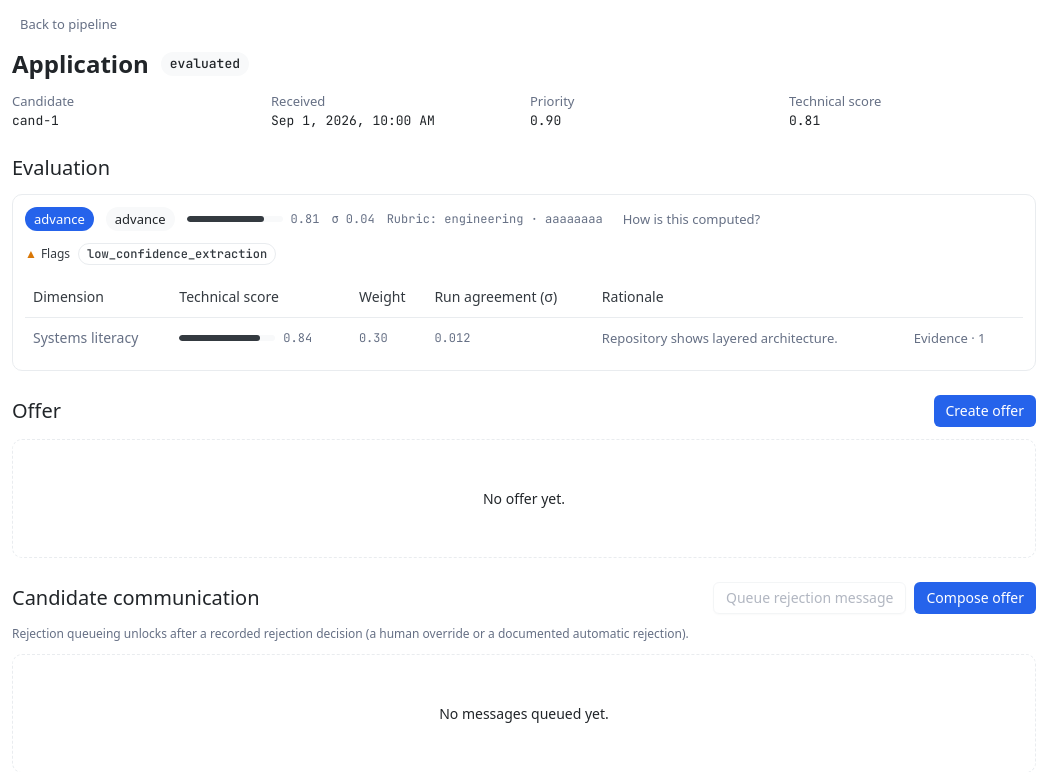
Test: ApplicationDetailPage › opens the score formula and the per-dimension evidence
Click the button "How is this computed?" at x=691, y=219, box [615,207,768,231]
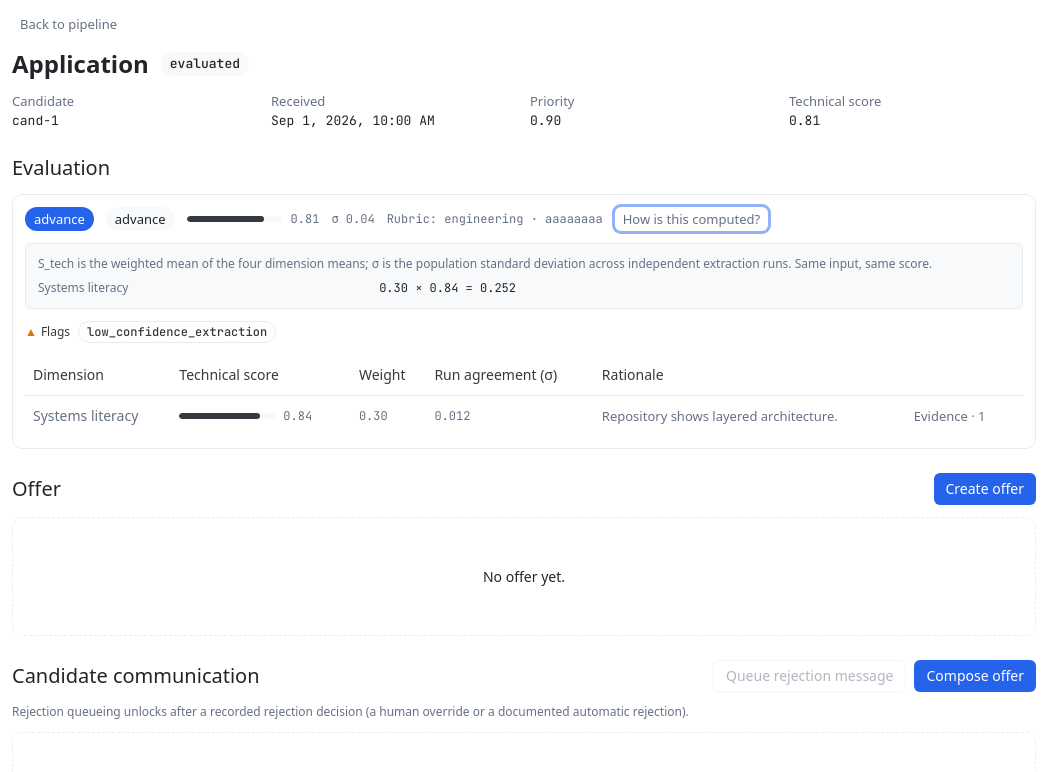
Result: the text "S_tech is the weighted mean of the four dimension means; σ is the population standard deviation across independent extra" is shown at [38,255,932,272]
Click the button "Evidence · 1" at x=950, y=416, box [906,404,994,428]
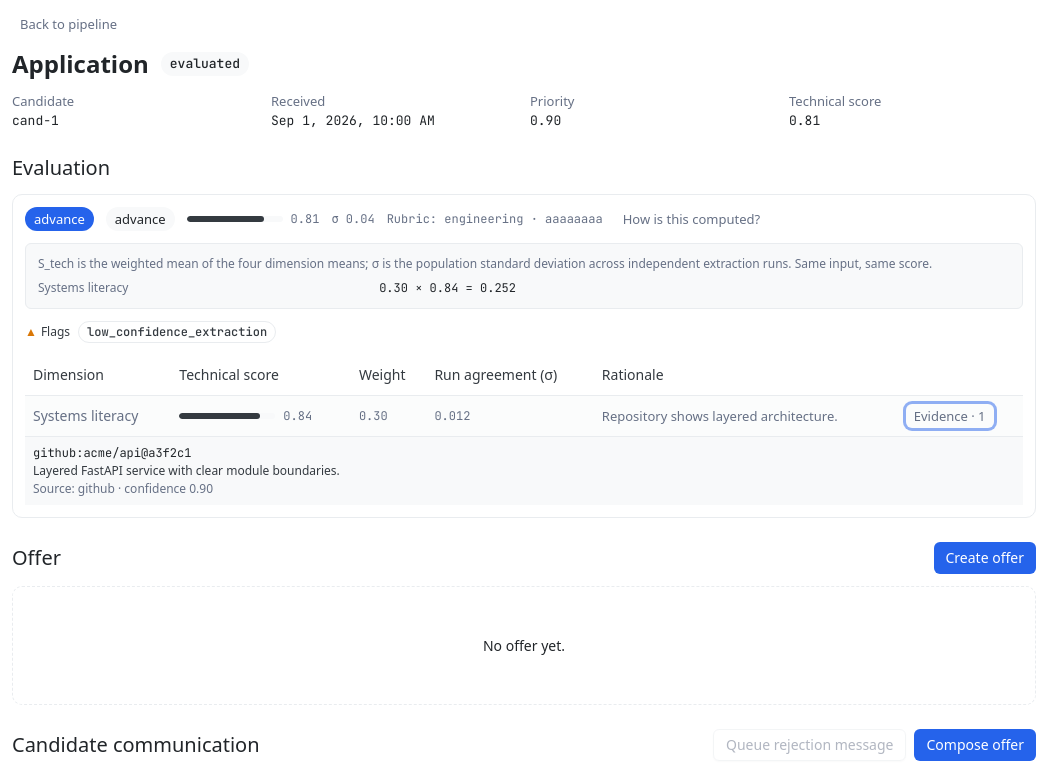
Result: the text "github:acme/api@a3f2c1" is shown at [33,444,191,460]
Result: the text "Layered FastAPI service with clear module boundaries." is shown at [33,462,340,478]
